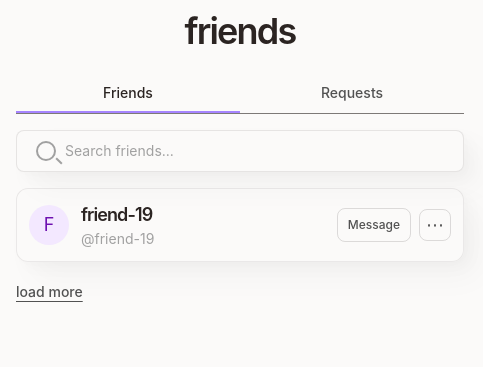
Test: friends page › appends a bounded friend page without duplicates
Expected: the text "friend-19" is shown, [81,201,154,229]
Click the button "load more": x=49, y=292 [16,282,83,302]
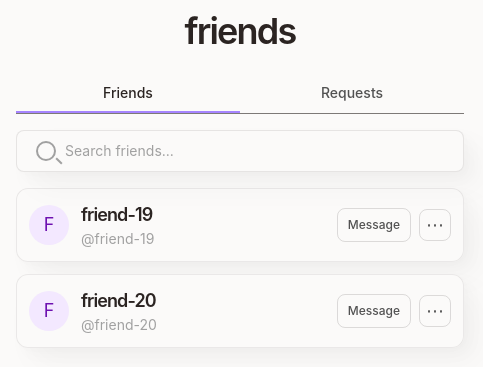
Expected: the text "friend-19" is shown once, [81,201,154,229]
Result: the text "friend-20" is shown at [81,287,157,315]
